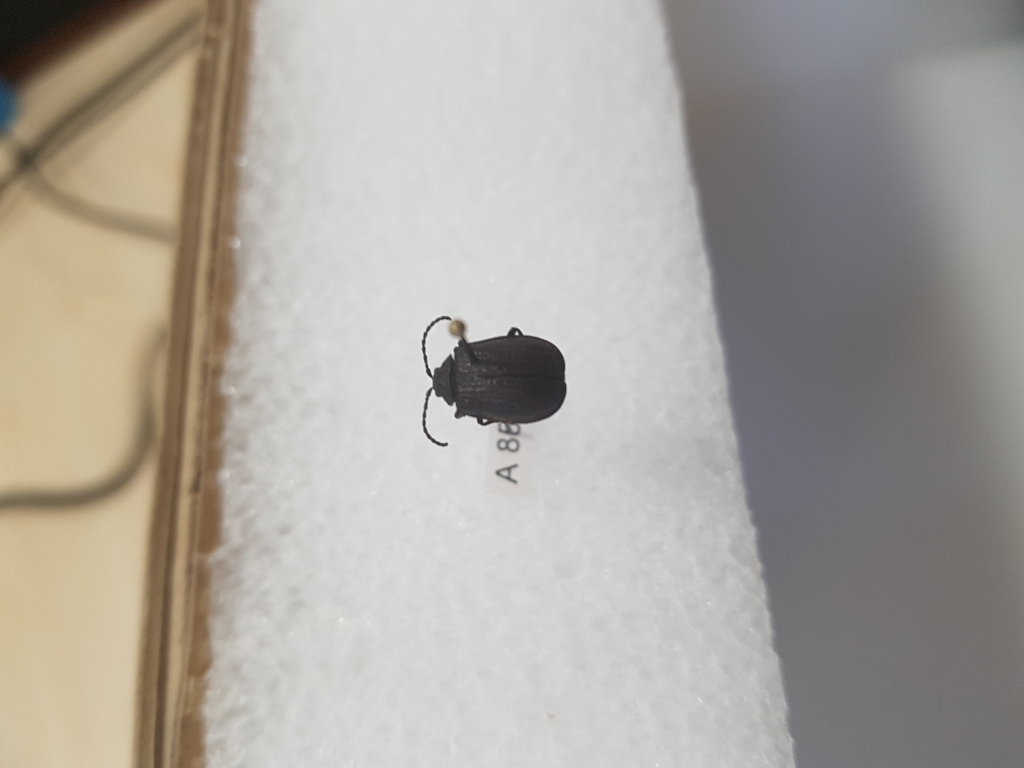Galeruca_tanaceti: (409, 312, 574, 447)
